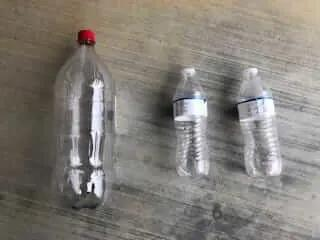bottle: (51, 21, 124, 219), (226, 58, 288, 186), (189, 61, 197, 200)
